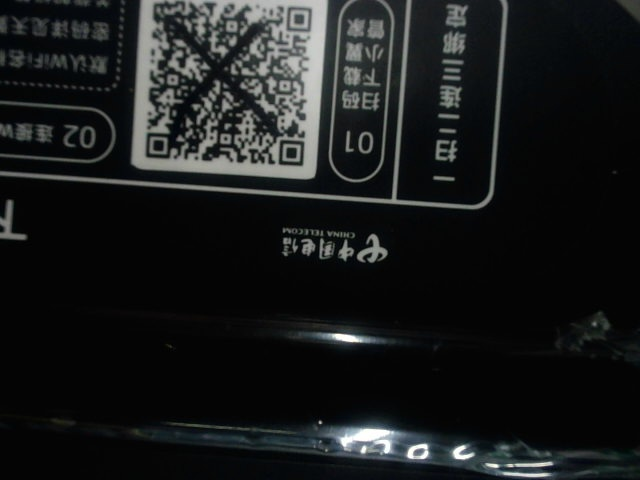AB_ChinaTelecom: (272, 215, 393, 277)
